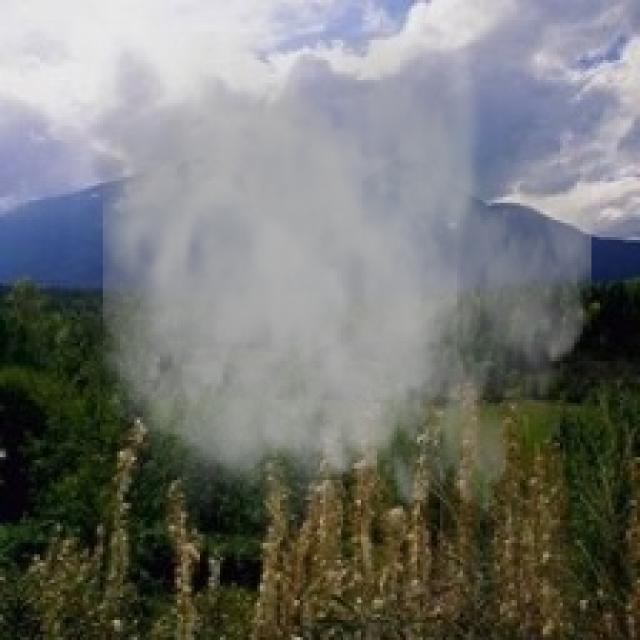Smoke: (71, 31, 592, 572)
